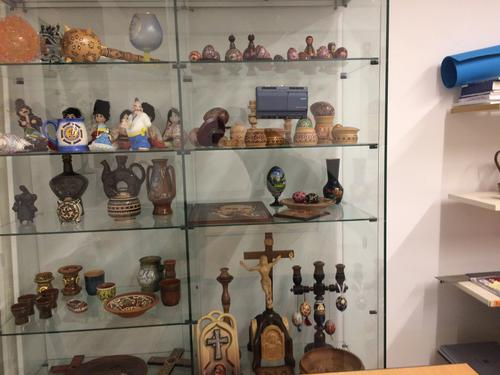iot2000: (254, 84, 308, 119)
